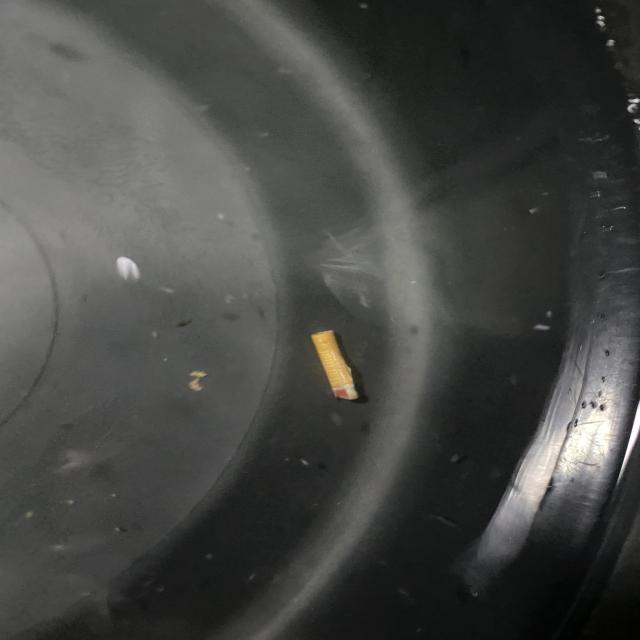Cigarette Filter: (299, 320, 375, 404)
